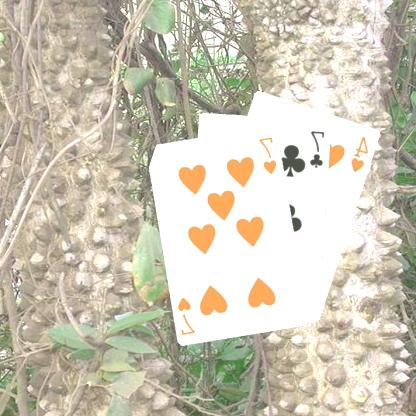4H: (350, 133, 372, 174)
7C: (309, 127, 328, 169)
7H: (258, 134, 280, 176), (176, 294, 198, 336)
